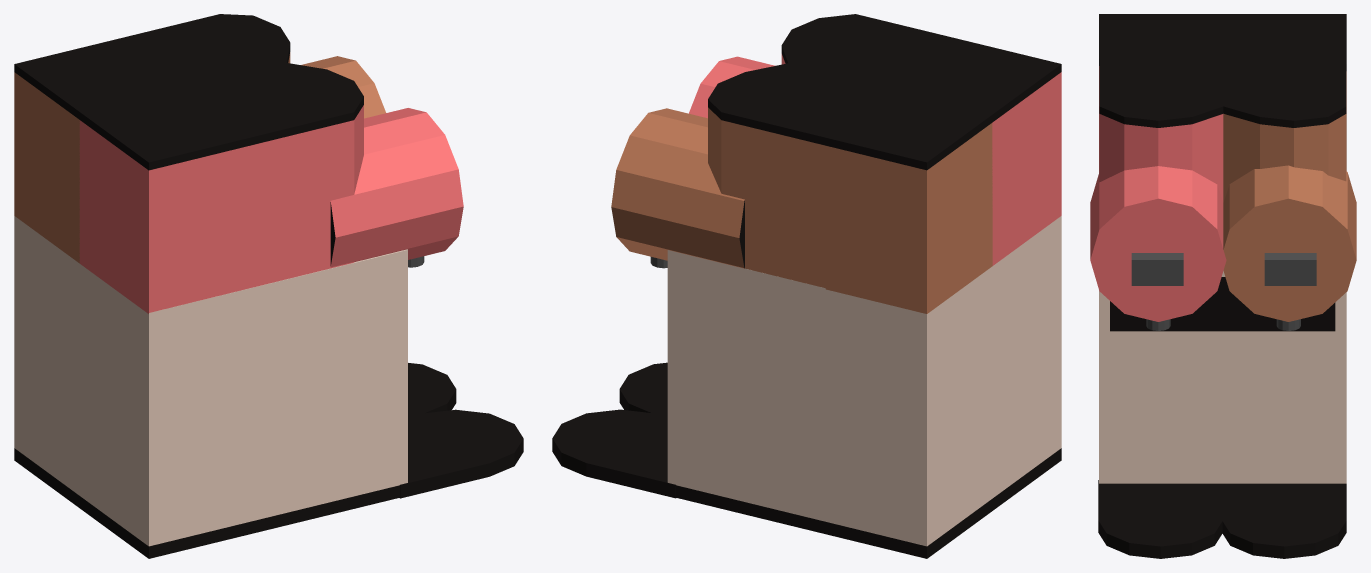
The model's file is ShakeMachine.fbx.
3 renders of one model, left to right at view 1: azimuth 30°, elevation 25°; view 2: azimuth 150°, elevation 25°; view 3: azimuth 270°, elevation 25°, orthographic. The views are drawn at different scales.
Visible parts, largest first — view 1: Machine; view 2: Machine; view 3: Machine, ButtonLeft, ButtonRight.
Boxes of the visible parts, <box> form: Machine: <box>14,14,523,558</box>; Machine: <box>552,14,1061,558</box>; Machine: <box>1090,14,1356,558</box>; ButtonLeft: <box>1131,253,1183,285</box>; ButtonRight: <box>1264,253,1316,285</box>.
Size of the model in its own units: 512 by 487 by 322.
